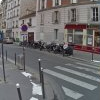crosswalk: (42, 63, 100, 98)
